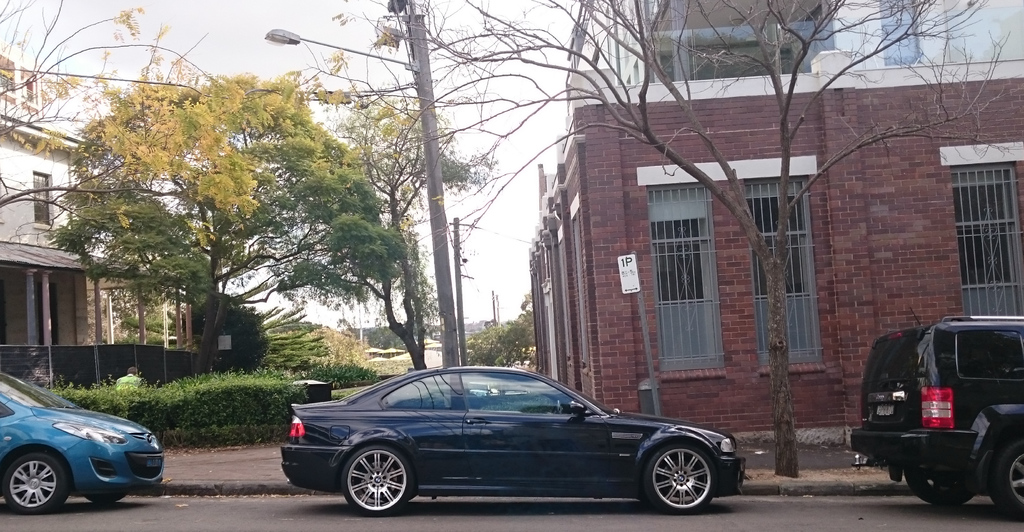Wheel: (645, 446, 716, 513), (339, 450, 412, 513), (1, 455, 72, 516), (901, 470, 981, 507), (988, 442, 1023, 526), (88, 496, 120, 504)
